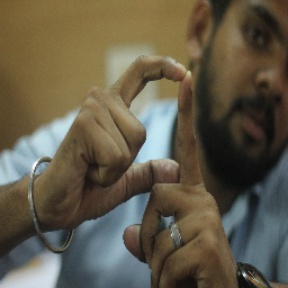D: (88, 44, 219, 237)
